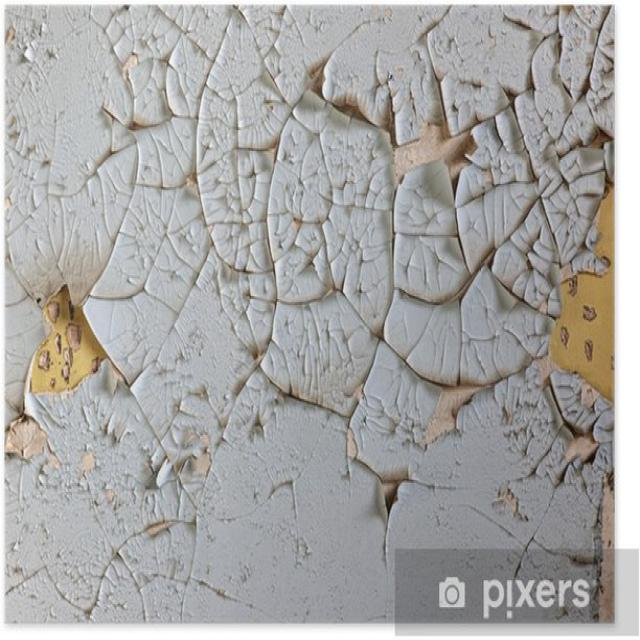paint-peeling: (271, 10, 612, 500), (18, 269, 129, 423), (139, 405, 226, 509)
